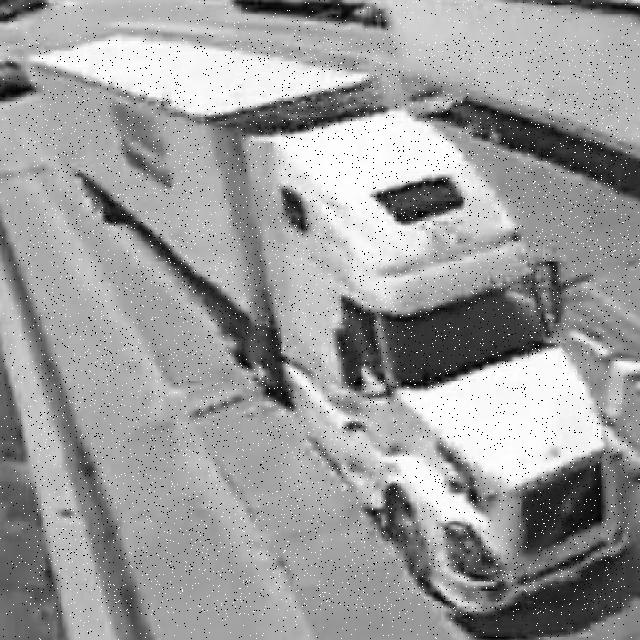Box Truck: (28, 40, 630, 615)
